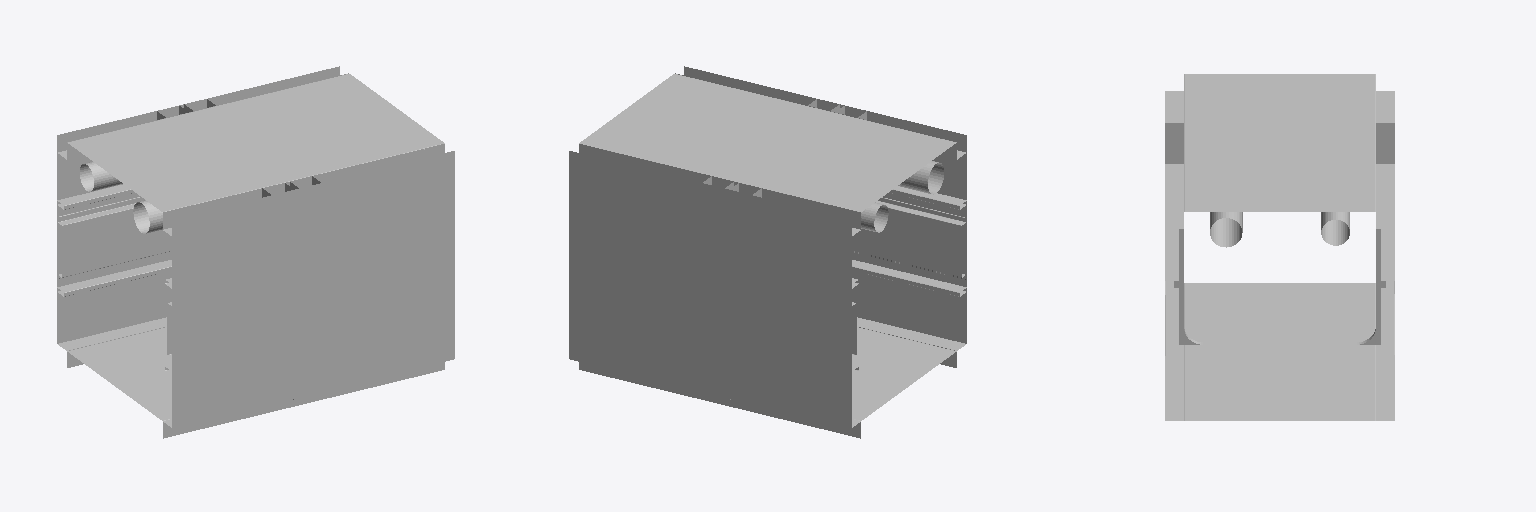
Rendered from HallwayBlock.obj.
The picture shows the model from 3 angles: view 1: azimuth 30°, elevation 25°; view 2: azimuth 150°, elevation 25°; view 3: azimuth 270°, elevation 25°; orthographic projection.
Parts seen in each view (by area): view 1: Cube.020_Cube.051, Cube.206_Cube.114, Cube.003_Cube.030, Cube.032_Cube.036, Cube.018_Cube.027, Cube.036_Cube.041, Cube.007_Cube.029, Cube.001_Cube.181, Cube.053_Cube.234; view 2: Cube.020_Cube.051, Cube.206_Cube.114, Cube.003_Cube.030, Cube.032_Cube.036, Cube.018_Cube.027, Cube.036_Cube.041, Cube.007_Cube.029, Cube.053_Cube.234, Cube.001_Cube.181; view 3: Cube.206_Cube.114, Cube.032_Cube.036, Cube.036_Cube.041, Cube.007_Cube.029, Cube.018_Cube.027, Cube.019_Cube.017, Cube.003_Cube.030, Cube.010_Cube.025, Cube.053_Cube.234, Cube.001_Cube.181.
Boxes of the visible parts, x1=… form: Cube.020_Cube.051: x1=57, y1=66, x2=454, y2=427; Cube.206_Cube.114: x1=67, y1=74, x2=444, y2=212; Cube.003_Cube.030: x1=58, y1=197, x2=171, y2=357; Cube.032_Cube.036: x1=67, y1=327, x2=171, y2=420; Cube.018_Cube.027: x1=58, y1=317, x2=444, y2=438; Cube.036_Cube.041: x1=58, y1=73, x2=444, y2=235; Cube.007_Cube.029: x1=57, y1=184, x2=171, y2=375; Cube.001_Cube.181: x1=80, y1=162, x2=122, y2=191; Cube.053_Cube.234: x1=133, y1=200, x2=162, y2=233; Cube.020_Cube.051: x1=569, y1=66, x2=966, y2=427; Cube.206_Cube.114: x1=579, y1=74, x2=956, y2=212; Cube.003_Cube.030: x1=852, y1=197, x2=965, y2=357; Cube.032_Cube.036: x1=852, y1=327, x2=956, y2=420; Cube.018_Cube.027: x1=579, y1=317, x2=965, y2=438; Cube.036_Cube.041: x1=579, y1=73, x2=965, y2=235; Cube.007_Cube.029: x1=852, y1=186, x2=966, y2=375; Cube.053_Cube.234: x1=898, y1=161, x2=943, y2=194; Cube.001_Cube.181: x1=861, y1=202, x2=888, y2=232; Cube.206_Cube.114: x1=1184, y1=74, x2=1375, y2=211; Cube.032_Cube.036: x1=1184, y1=283, x2=1375, y2=420; Cube.036_Cube.041: x1=1165, y1=91, x2=1394, y2=228; Cube.007_Cube.029: x1=1165, y1=229, x2=1394, y2=367; Cube.018_Cube.027: x1=1165, y1=345, x2=1394, y2=420; Cube.019_Cube.017: x1=1165, y1=134, x2=1394, y2=344; Cube.003_Cube.030: x1=1165, y1=281, x2=1394, y2=355; Cube.010_Cube.025: x1=1165, y1=123, x2=1394, y2=163; Cube.053_Cube.234: x1=1210, y1=212, x2=1242, y2=247; Cube.001_Cube.181: x1=1321, y1=212, x2=1349, y2=245.
Bounding box in the file's own units: 17 × 13 × 12.